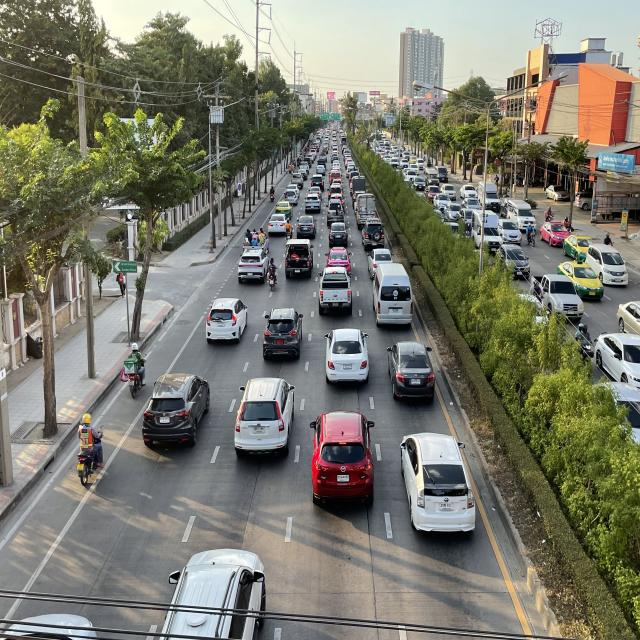bike: (69, 408, 107, 490), (120, 337, 149, 403), (265, 255, 282, 292)
truck: (284, 237, 316, 280), (242, 226, 270, 260)
